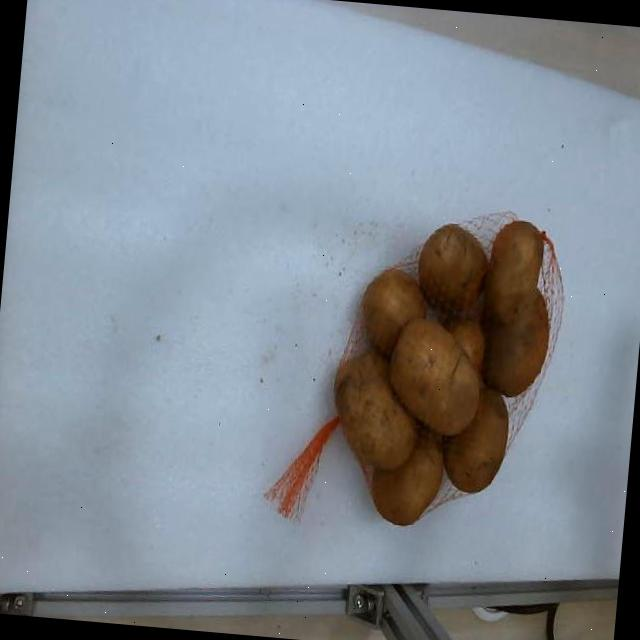potato: (389, 319, 479, 435), (334, 352, 417, 469), (442, 384, 508, 492), (370, 428, 443, 524), (483, 291, 547, 396), (419, 223, 487, 310), (486, 221, 543, 322), (362, 268, 426, 355), (445, 319, 485, 372)
